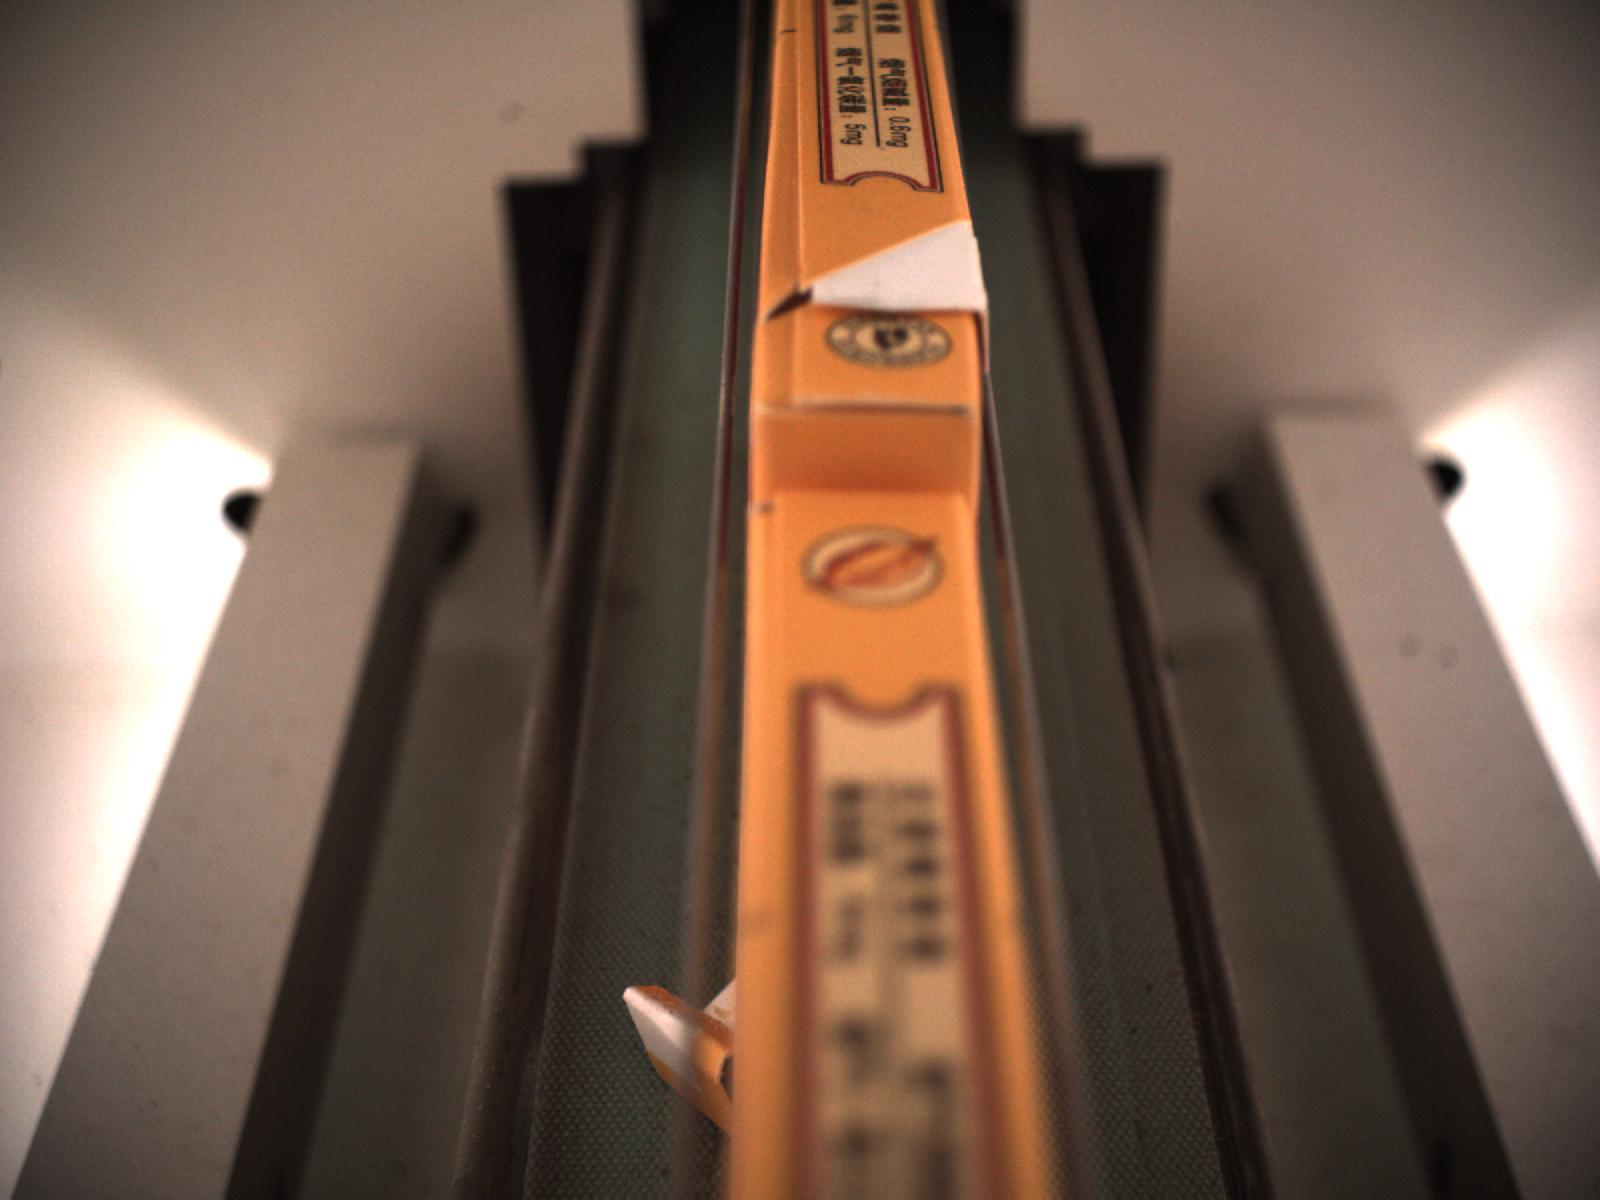frame: (807, 215, 989, 313)
headDamage_upper_2: (757, 308, 980, 423)
skewed_upper_2: (760, 18, 822, 320)
